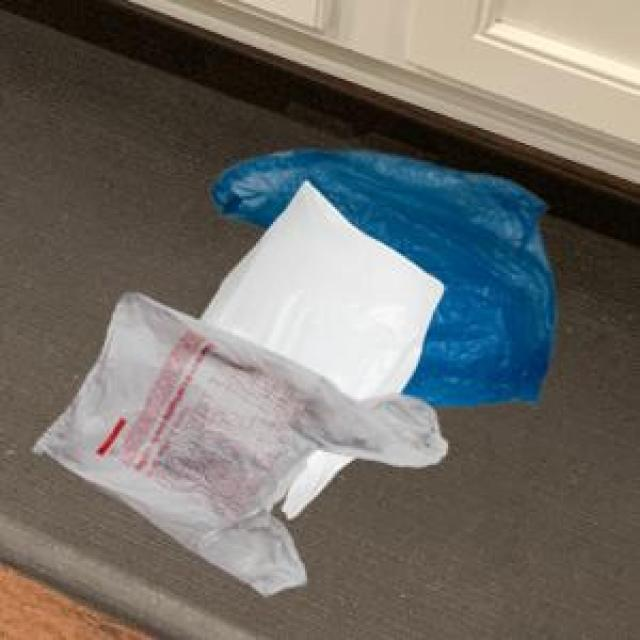plastic: (39, 101, 600, 605)
